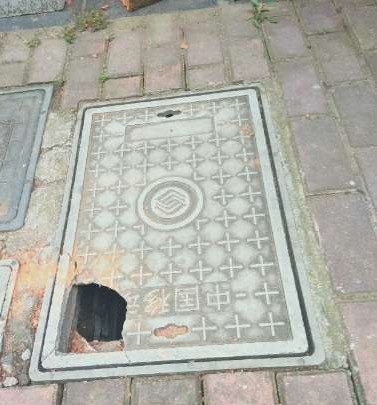broke: (28, 82, 328, 382)
